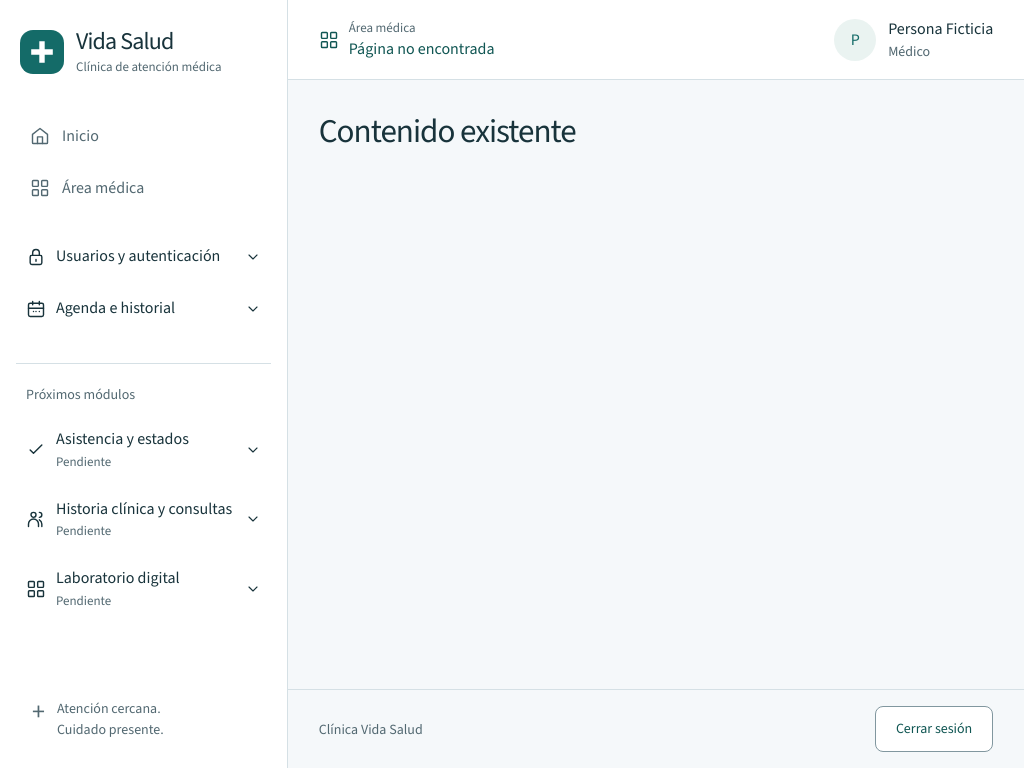
Test: sidebar modular y orientación › Médico puede desplegar sus módulos sin CU visibles ni funciones ajenas
The width and height of the screenshot is (1024, 768).
expect the link "Cambiar contraseña" is not shown: met
Click the button "Usuarios y autenticación" at (144, 257), box [16, 233, 271, 281]
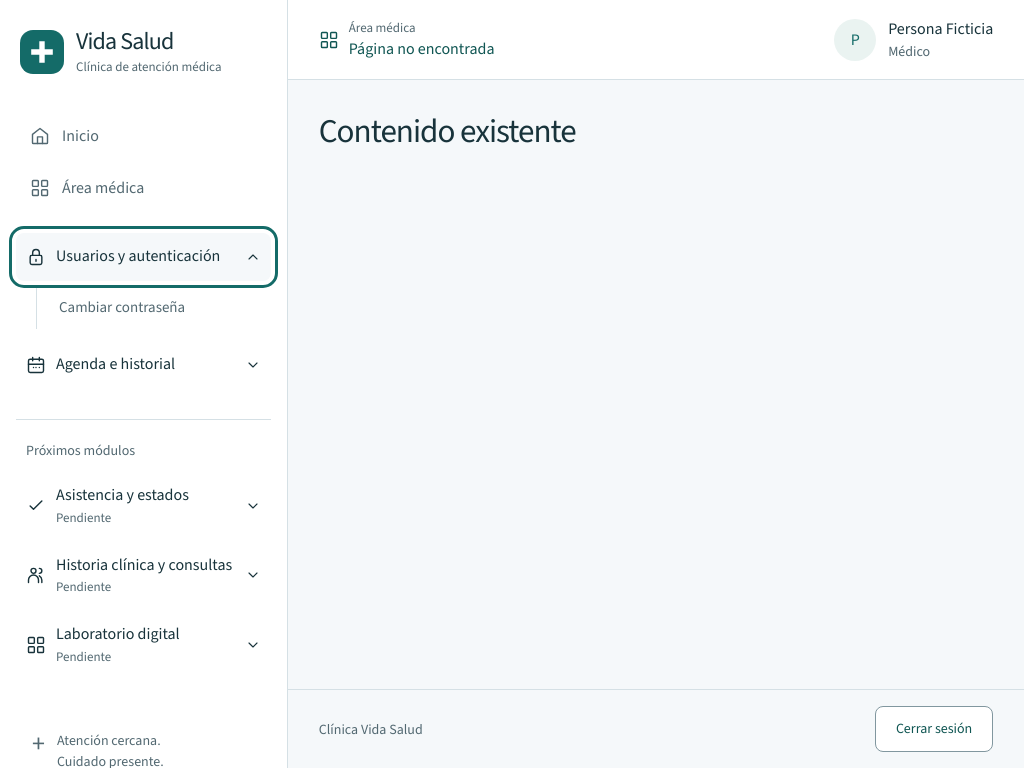
expect the number of buttons "Cerrar sesión" is 1: met, box [875, 706, 993, 752]
expect the button "Usuarios y autenticación" is expanded: met, box [16, 233, 271, 281]
expect the link "Cambiar contraseña" is shown: met, box [59, 297, 185, 317]
